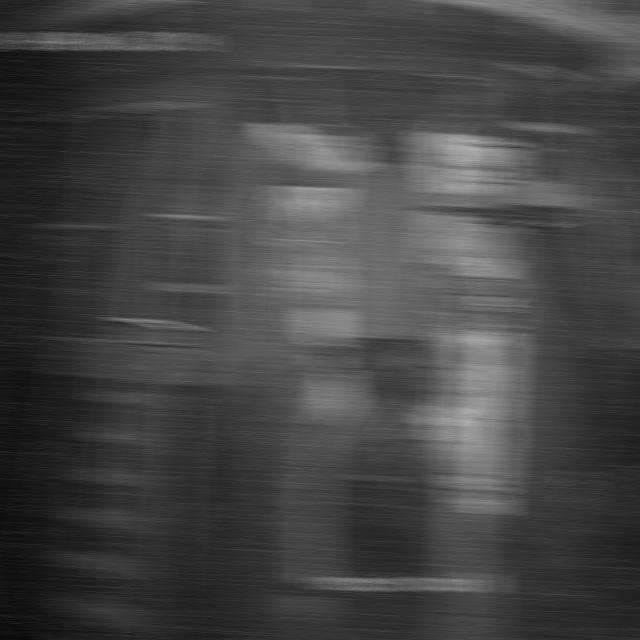cement_mixer_truck: (312, 248, 472, 588)
